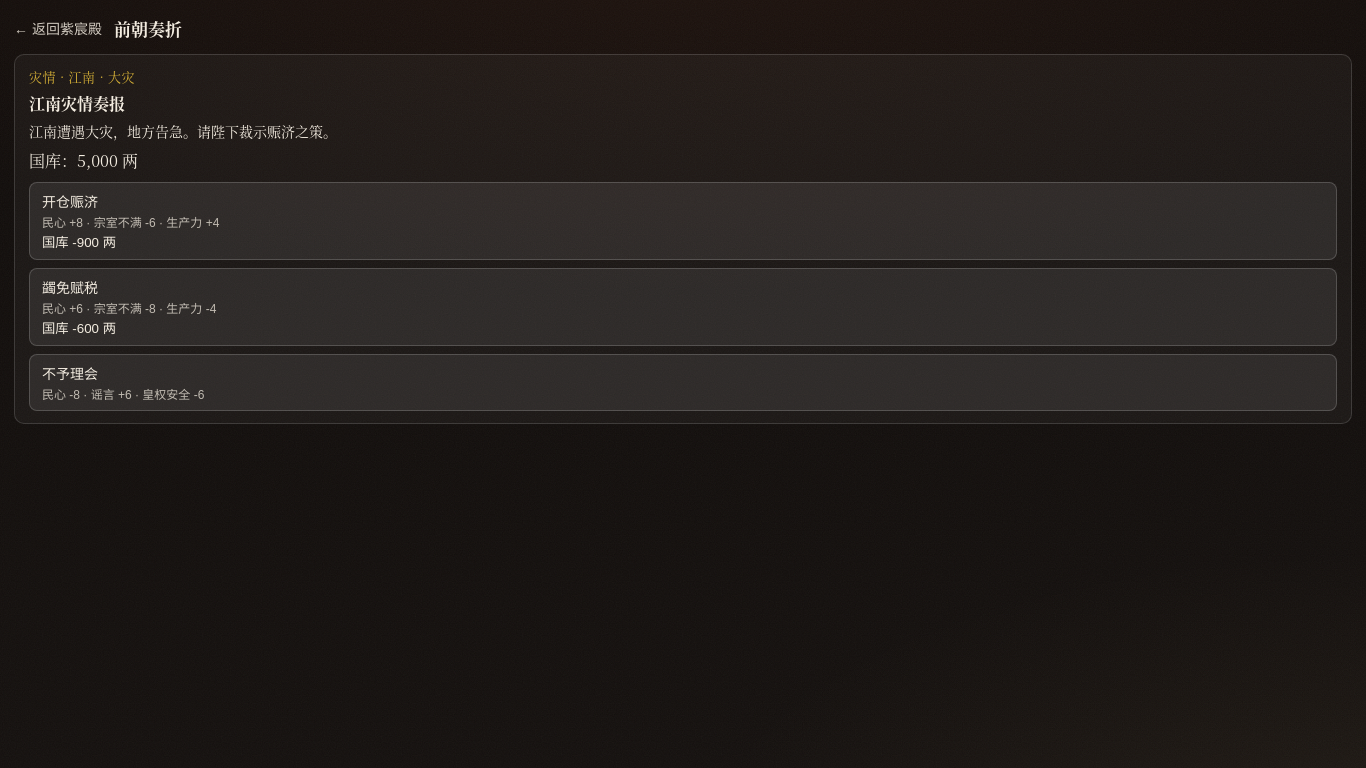
Test: MemorialsScreen — failure flow › shows error notice and card stays when resolve fails (bad state)
Note: Now click any button
Click the button "不予理会 民心 -8 · 谣言 +6 · 皇权安全 -6".
click(70, 374)  # box x1=29 y1=354 x2=1337 y2=411
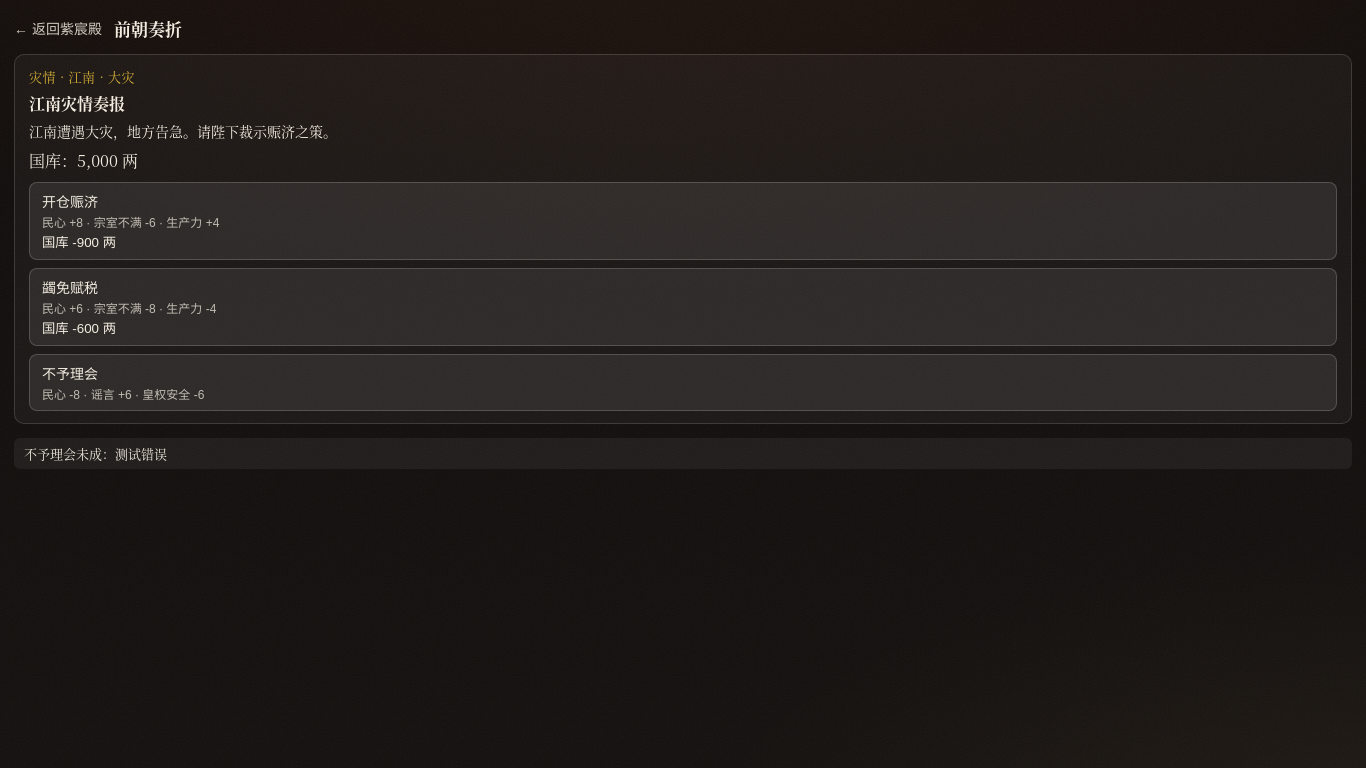
Now the message is shown, box x1=14 y1=438 x2=1352 y2=469
